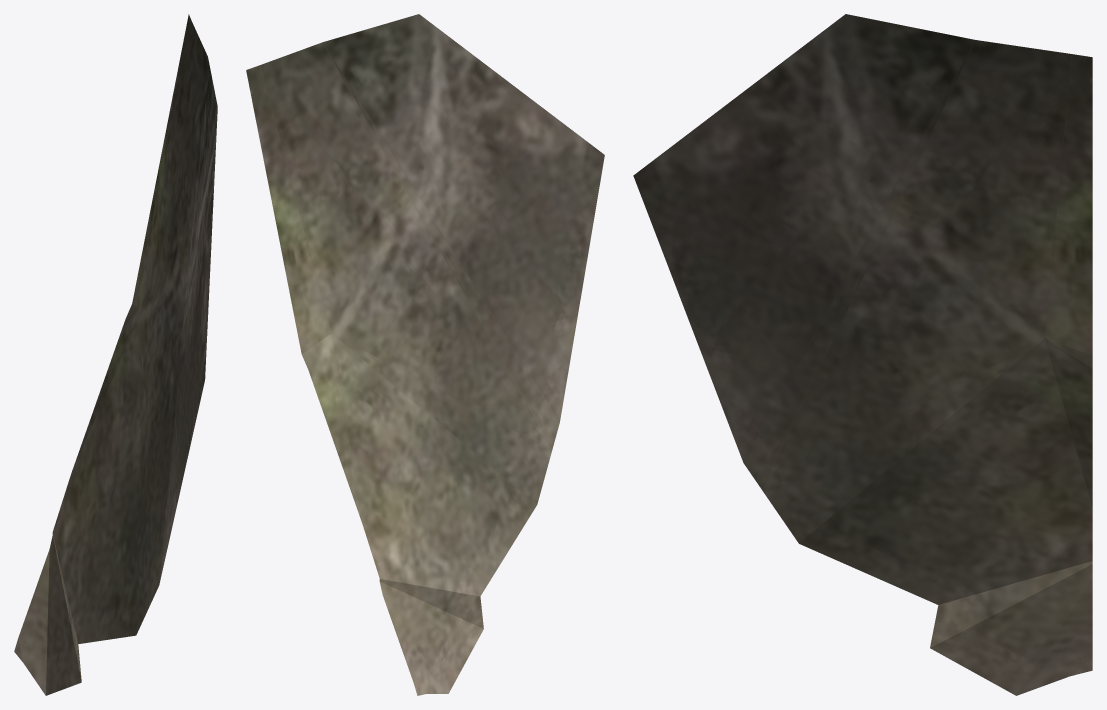
3 renders of one model, left to right at view 1: azimuth 30°, elevation 25°; view 2: azimuth 150°, elevation 25°; view 3: azimuth 270°, elevation 25°, orthographic. The views are drawn at different scales.
Bounding box in the file's own units: 1.69 × 5.69 × 3.19.
Materials: 1 (1 with a texture image).
